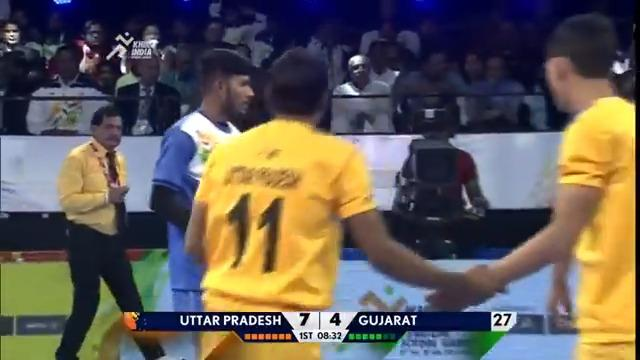Player: (182, 46, 501, 358), (423, 12, 637, 358), (53, 104, 165, 359)
Raider: (148, 47, 259, 358)
referee: (387, 98, 489, 258)
